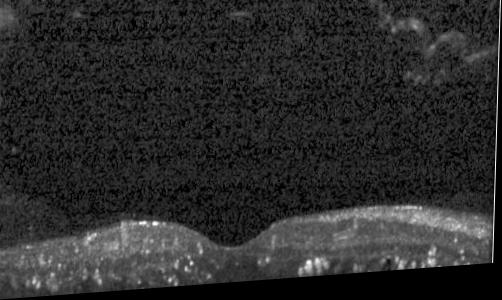intraretinal_cyst: (383, 265, 395, 275)
